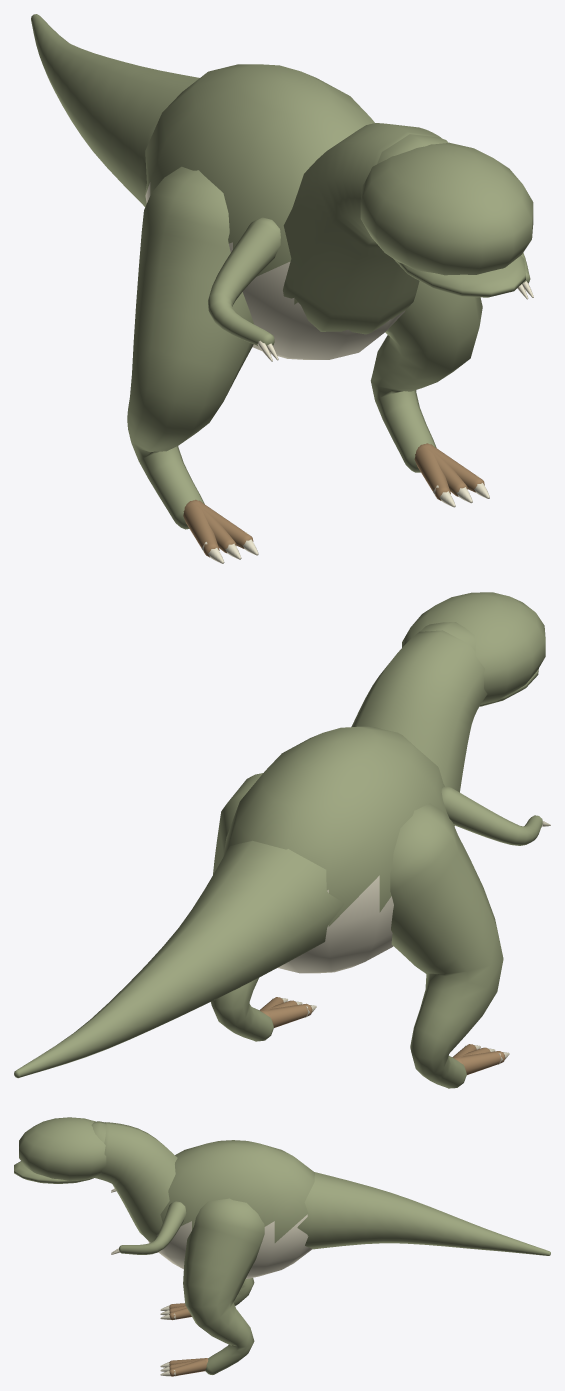
File: trex.glb
3 views of the same model, one above another, from view 1: azimuth 30°, elevation 25°; view 2: azimuth 150°, elevation 25°; view 3: azimuth 270°, elevation 25° (orthographic). The views are drawn at different scales.
Parts seen in each view (by area): view 1: tyrannosaurus; view 2: tyrannosaurus; view 3: tyrannosaurus.
Part boxes in pixels (box(x1,y1,x2,y2)): tyrannosaurus: box(31, 14, 533, 563); tyrannosaurus: box(14, 592, 550, 1088); tyrannosaurus: box(14, 1117, 550, 1376).
Size of the model in its own units: 4.33 by 5.52 by 12.
